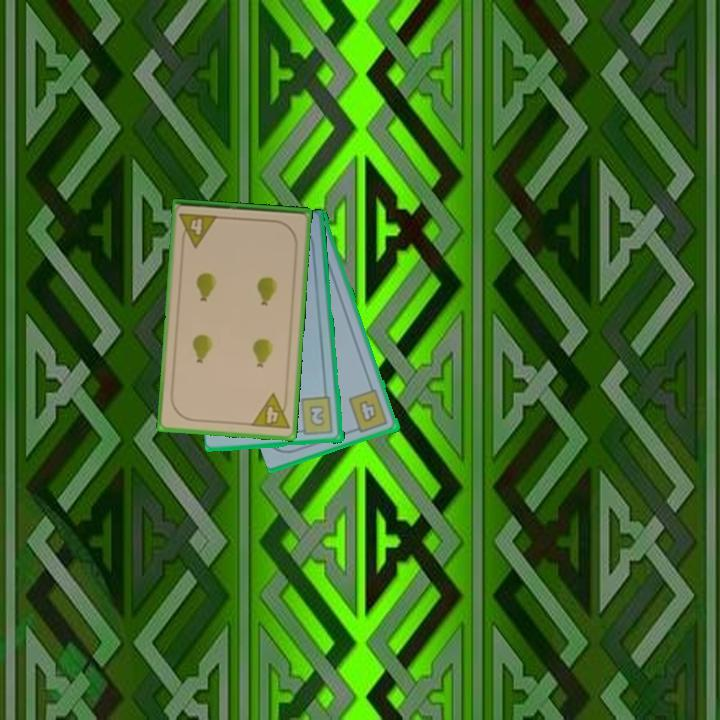2b: (294, 394, 336, 438)
4b: (345, 387, 391, 436)
4p: (248, 390, 292, 433), (176, 209, 221, 250)
